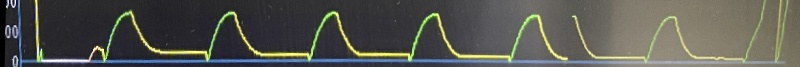leakage: (96, 2, 537, 67)
